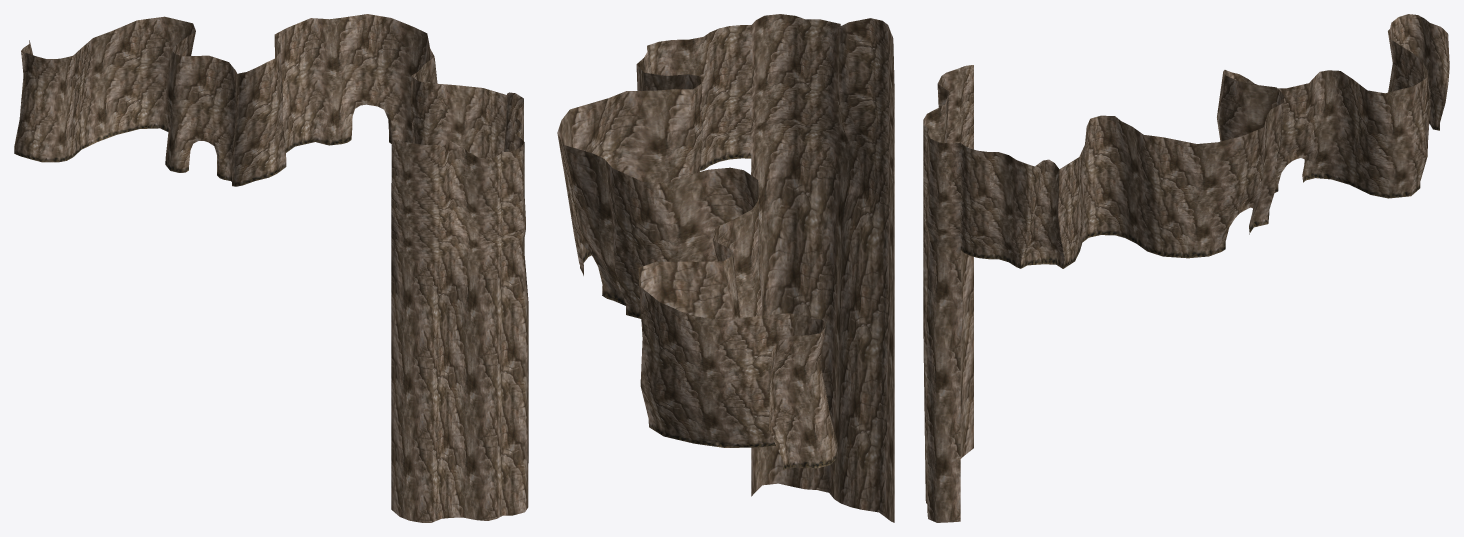
File: OVERHILL_A_01_LINE91.fbx
The picture shows the model from 3 angles, left to right: view 1: azimuth 30°, elevation 25°; view 2: azimuth 150°, elevation 25°; view 3: azimuth 270°, elevation 25°; orthographic projection. The views are drawn at different scales.
Visible parts, largest first — view 1: OVERHILL_A_01_LINE91; view 2: OVERHILL_A_01_LINE91; view 3: OVERHILL_A_01_LINE91.
Part boxes in pixels (x1,y1,x2,y2): OVERHILL_A_01_LINE91: (14,14,528,522); OVERHILL_A_01_LINE91: (557,14,894,522); OVERHILL_A_01_LINE91: (923,14,1449,522).
Size of the model in its own units: 300947 by 338682 by 405079.
2 materials, 2 textured.
